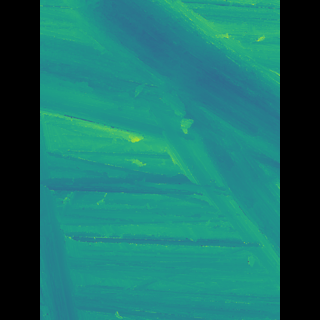Loch: (86, 0, 250, 287)
